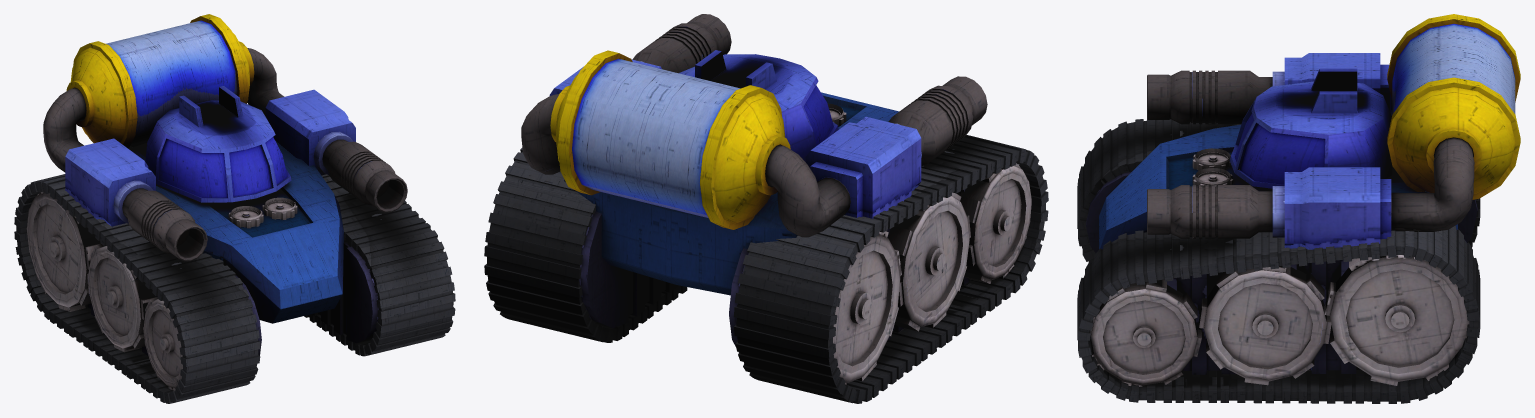
The model's file is PlayerB3.obj.
3 views of the same model, side by side, from view 1: azimuth 30°, elevation 25°; view 2: azimuth 150°, elevation 25°; view 3: azimuth 270°, elevation 25° (orthographic). The views are drawn at different scales.
Parts seen in each view (by area): view 1: Object001, Box042, Object004, Object003, Object002; view 2: Object001, Box042, Object003, Object004, Object002; view 3: Object001, Box042, Object004, Object003, Object002.
Part boxes in pixels (box(x1,y1,x2,y2)): Object001: box(43, 14, 407, 356); Box042: box(14, 174, 455, 403); Object004: box(26, 192, 101, 311); Object003: box(87, 244, 157, 352); Object002: box(143, 298, 182, 390); Object001: box(521, 14, 987, 352); Box042: box(484, 135, 1048, 403); Object003: box(888, 192, 970, 331); Object004: box(833, 231, 901, 384); Object002: box(960, 163, 1031, 283); Object001: box(1086, 14, 1520, 374); Box042: box(1077, 119, 1480, 403); Object004: box(1324, 255, 1469, 385); Object003: box(1199, 266, 1331, 385); Object002: box(1090, 279, 1201, 386).
Bounding box in the file's own units: 121 × 102 × 147.
Materials: 2 (2 with a texture image).
